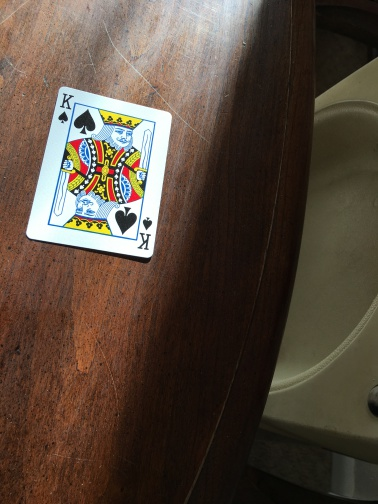king: (27, 85, 174, 261)
